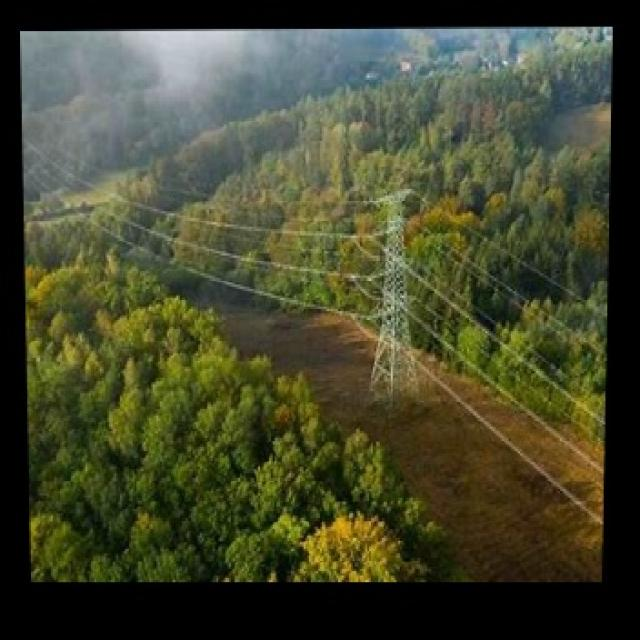utility poles: (365, 180, 429, 406)
